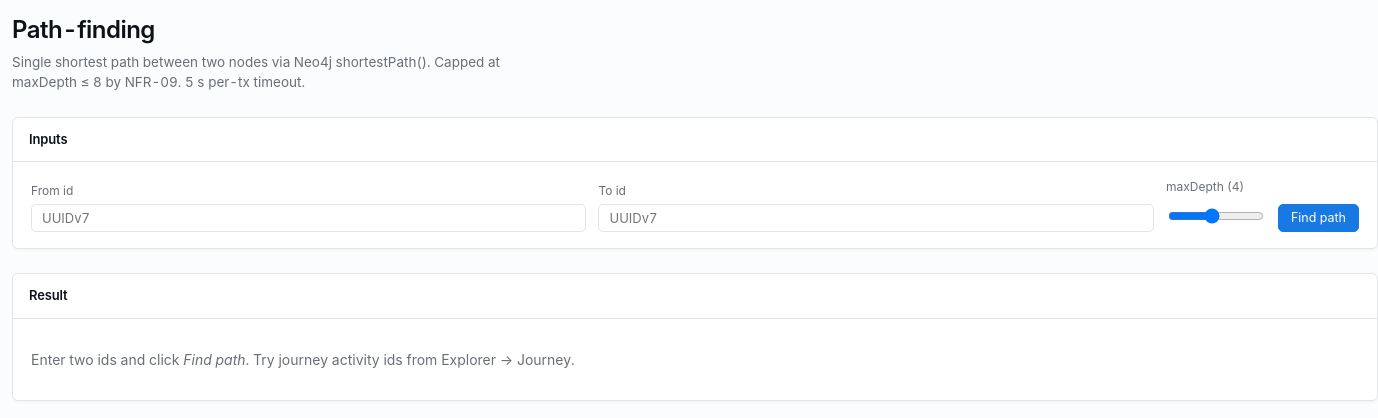
ExplorerPath (FR-10 / AC-07) › (e) result_truncated → narrow-the-search banner
This screenshot has width=1378, height=418.
Type "node-a" into the field with test id "path-from" at [309, 218], box [31,204,586,232]
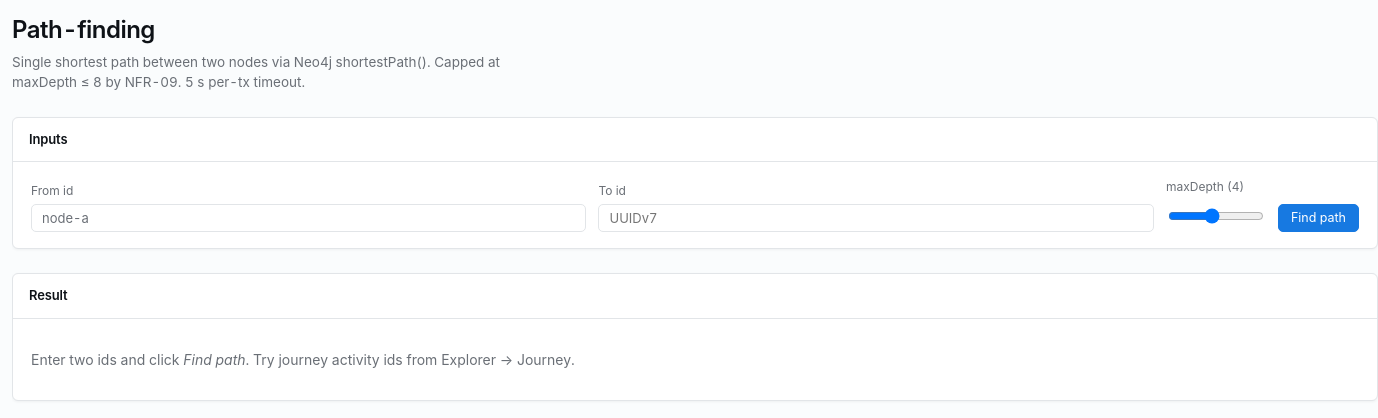
Type "node-b" into the field with test id "path-to" at [876, 218], box [598,204,1154,232]
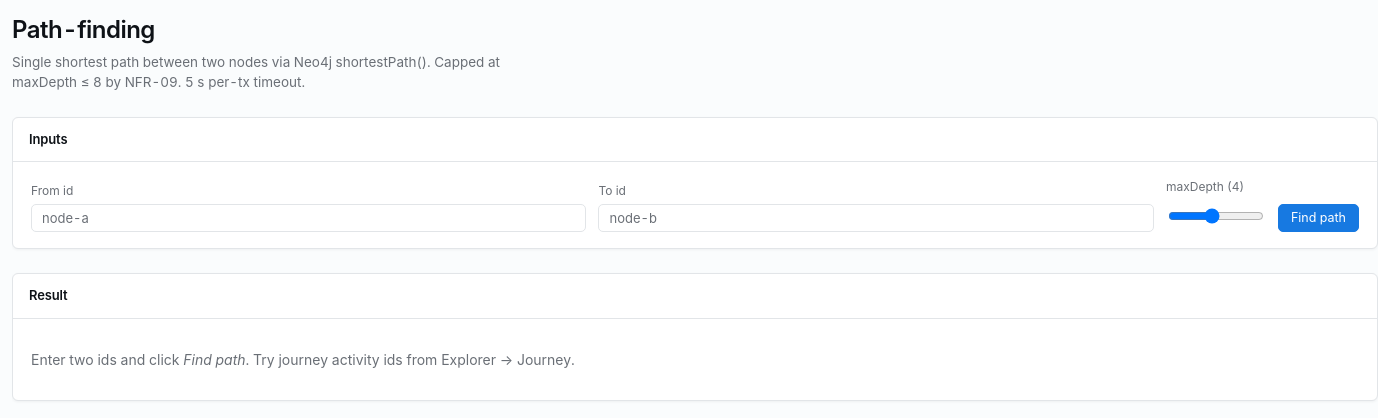
Click the button "Find path" at [1318, 218], box [1278,204,1359,232]
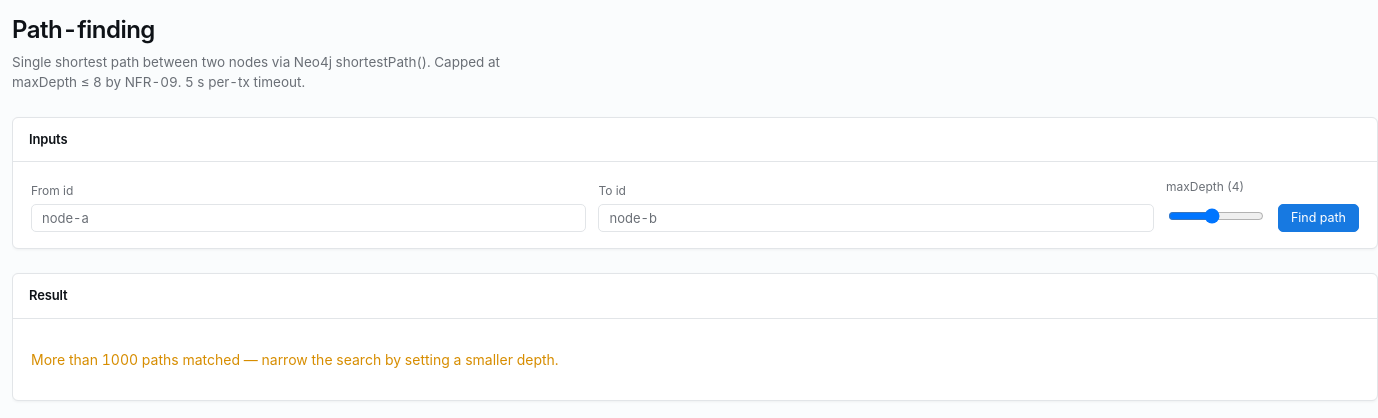
Expected: the text with test id "path-truncated" is shown, [31,350,559,368]
